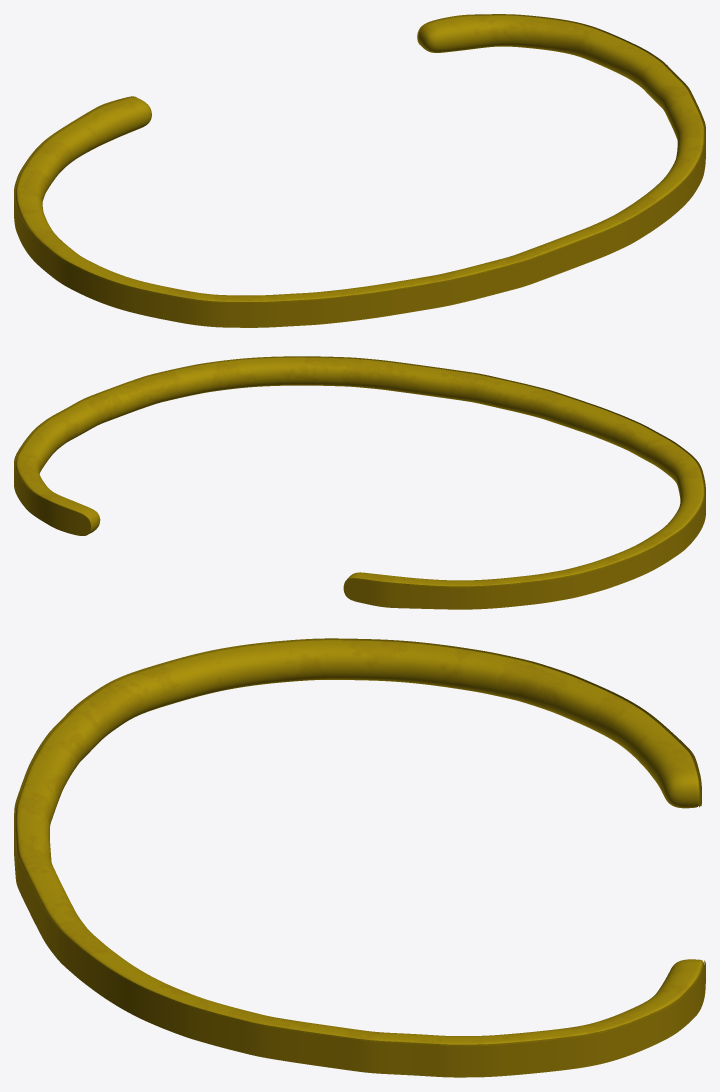
File: bangle-gold.glb
3 renders of one model, top to bottom at view 1: azimuth 30°, elevation 25°; view 2: azimuth 150°, elevation 25°; view 3: azimuth 270°, elevation 25°, orthographic. The views are drawn at different scales.
Visible parts, largest first — view 1: bangle1, omote1; view 2: bangle1, omote1; view 3: bangle1, omote1.
Part boxes in pixels (box(x1,y1,x2,y2)): bangle1: box(15, 14, 704, 327); omote1: box(14, 59, 705, 327); bangle1: box(15, 356, 704, 609); omote1: box(14, 424, 705, 609); bangle1: box(15, 638, 704, 1077); omote1: box(14, 709, 705, 1076).
Bounding box in the file's own units: 2.82 × 0.1165 × 2.03.
Materials: 2 (2 with a texture image).
